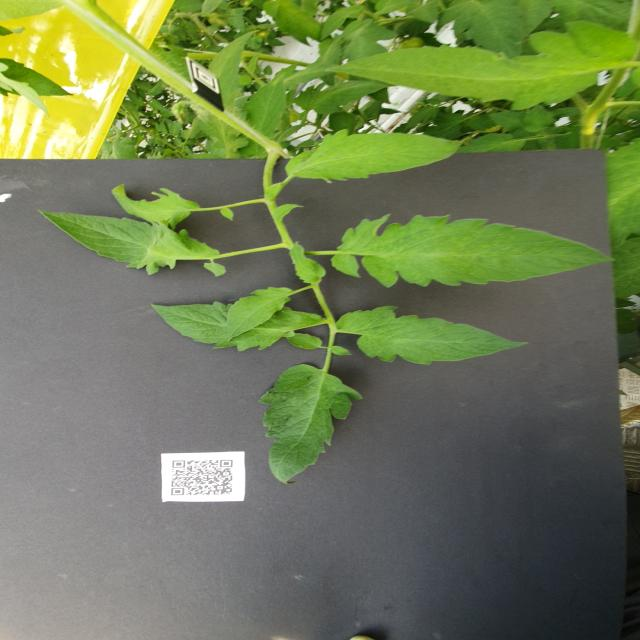Healthy Leaf: (324, 19, 640, 111), (331, 216, 615, 289), (38, 211, 228, 279), (259, 364, 364, 486), (338, 305, 530, 367), (287, 130, 464, 185), (151, 302, 327, 353), (227, 288, 294, 341), (298, 81, 394, 116), (286, 333, 324, 352)
